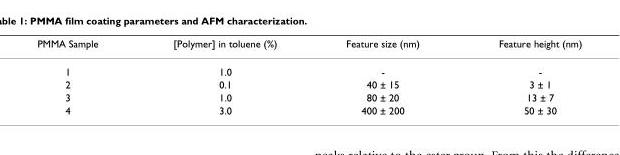table: (36, 37, 581, 116)
table column: (135, 37, 310, 116), (310, 37, 458, 116), (458, 37, 581, 116), (36, 37, 135, 116)
table column header: (36, 37, 581, 57)
table row: (36, 37, 581, 57), (36, 57, 581, 77), (36, 77, 581, 90), (36, 90, 581, 103), (36, 103, 581, 116)
